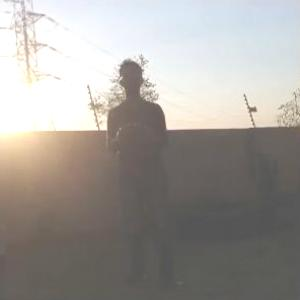follow: (104, 52, 190, 289)
